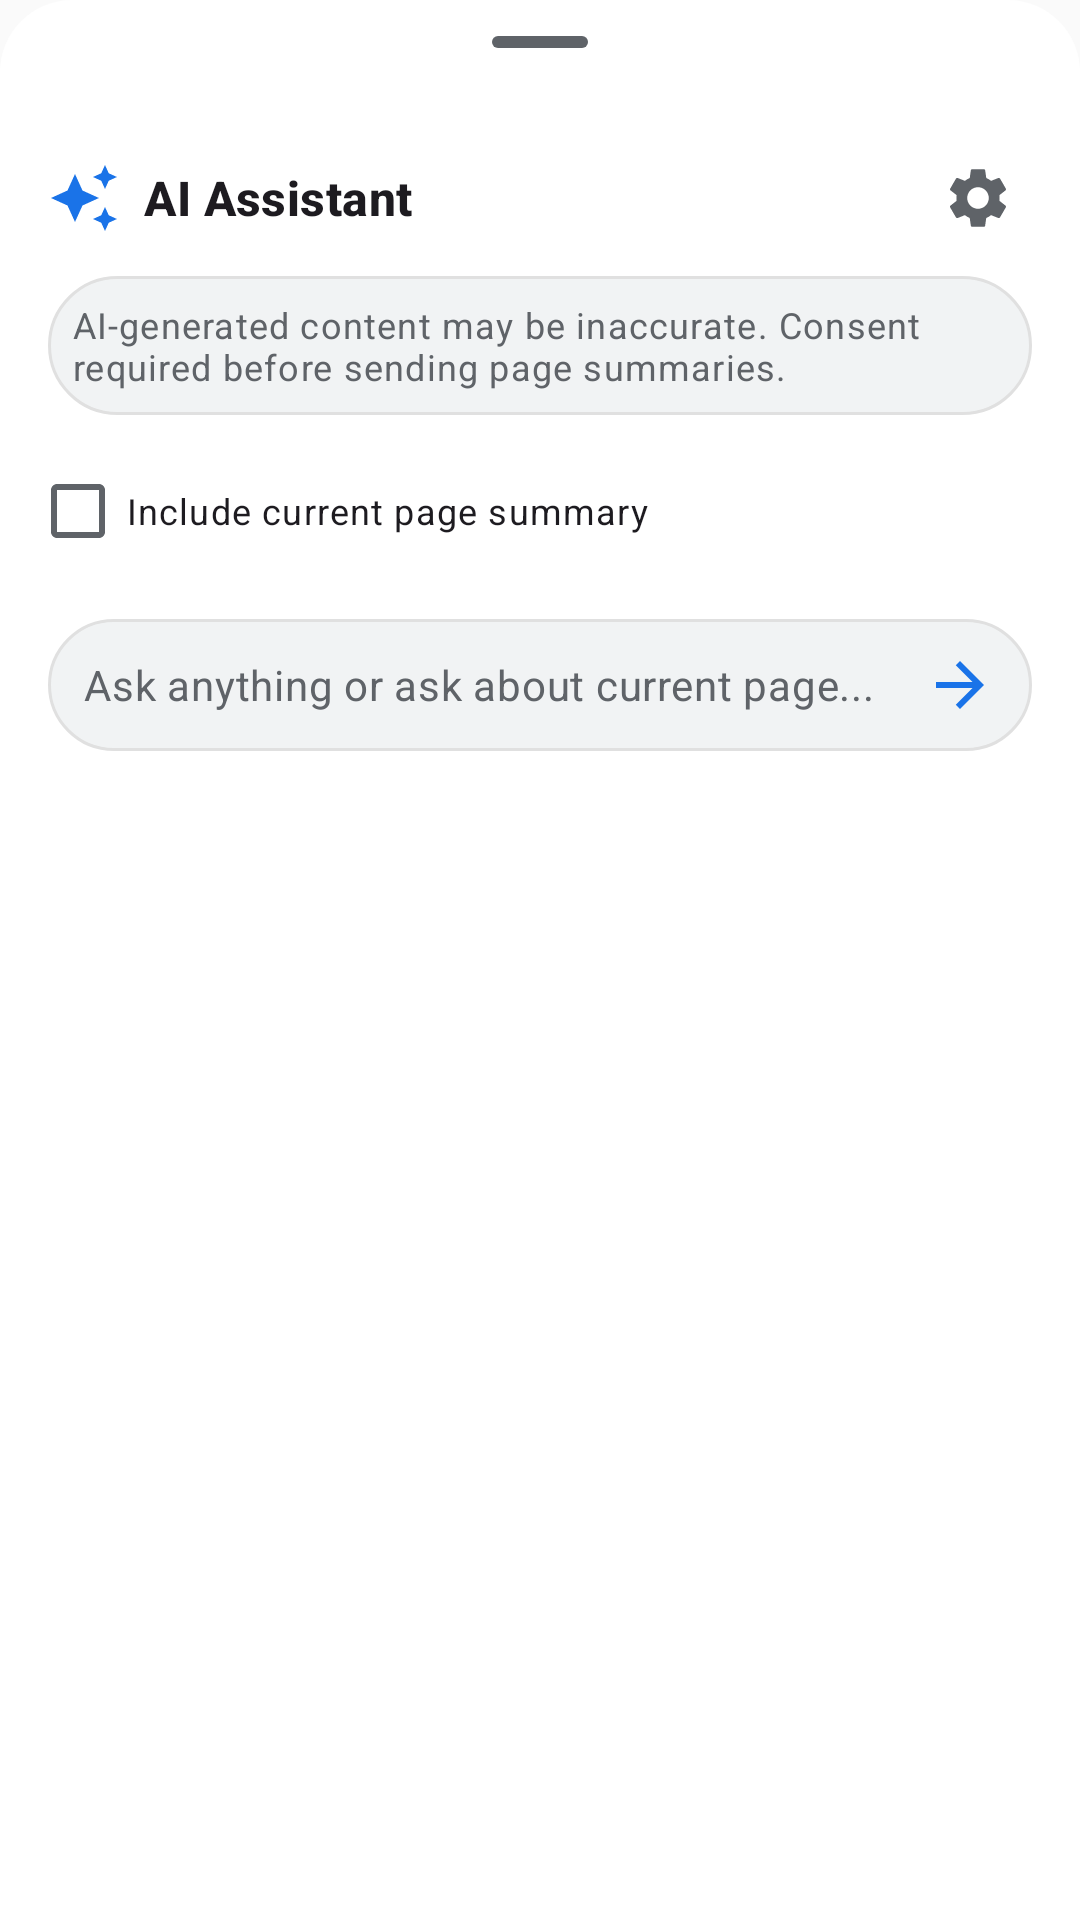

Icons on this 1080*1920 Android screen, each with the point to tap as point (x, y):
Send: point (960, 685)
Settings: point (978, 198)
